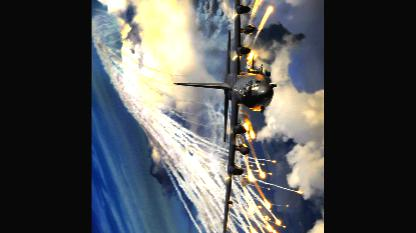Be200: (172, 0, 277, 232)
